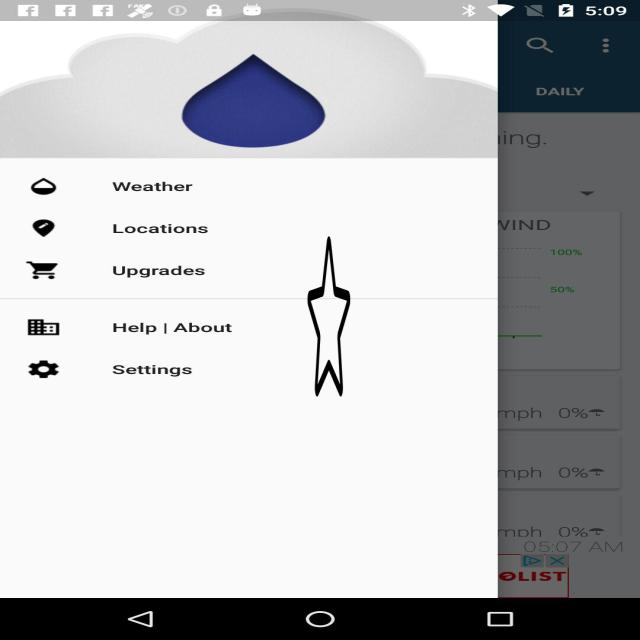forced continuity: (308, 233, 350, 400)
